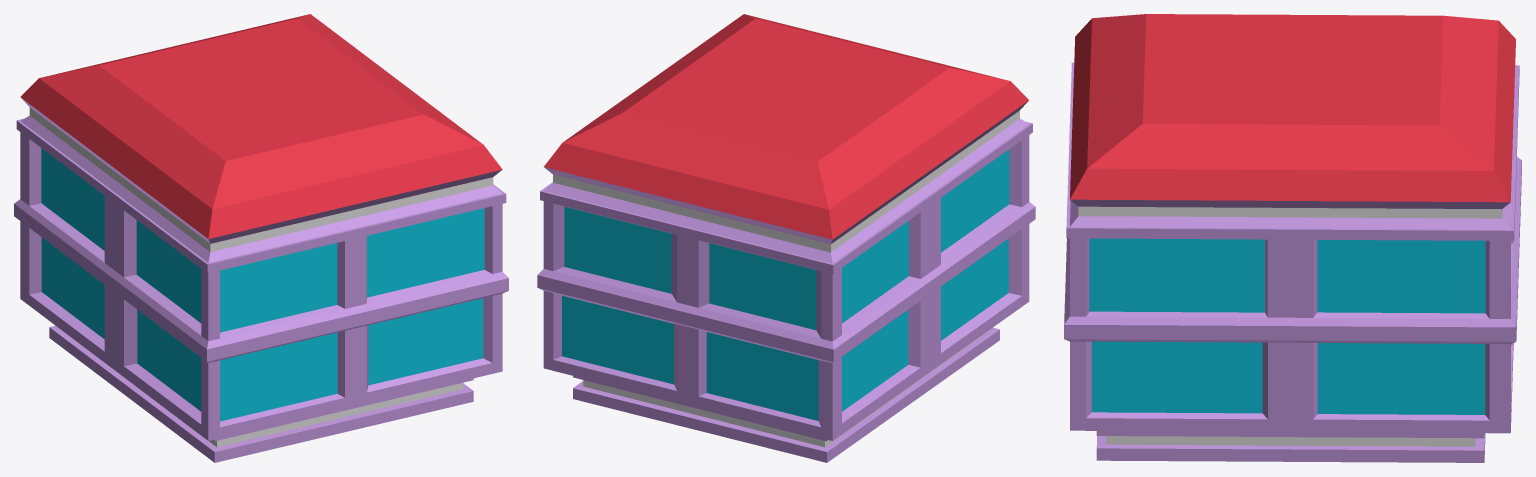
The model's file is FBX_SD_mShop1Top.fbx.
3 views of the same model, side by side, from view 1: azimuth 30°, elevation 25°; view 2: azimuth 150°, elevation 25°; view 3: azimuth 270°, elevation 25° (orthographic). The views are drawn at different scales.
Parts seen in each view (by area): view 1: FBX_SD_mShop1Top; view 2: FBX_SD_mShop1Top; view 3: FBX_SD_mShop1Top.
Part boxes in pixels (x1,y1,x2,y2): FBX_SD_mShop1Top: (14, 14, 508, 462); FBX_SD_mShop1Top: (537, 14, 1035, 462); FBX_SD_mShop1Top: (1064, 14, 1521, 462).
Size of the model in its own units: 1209 by 1063 by 1376.
